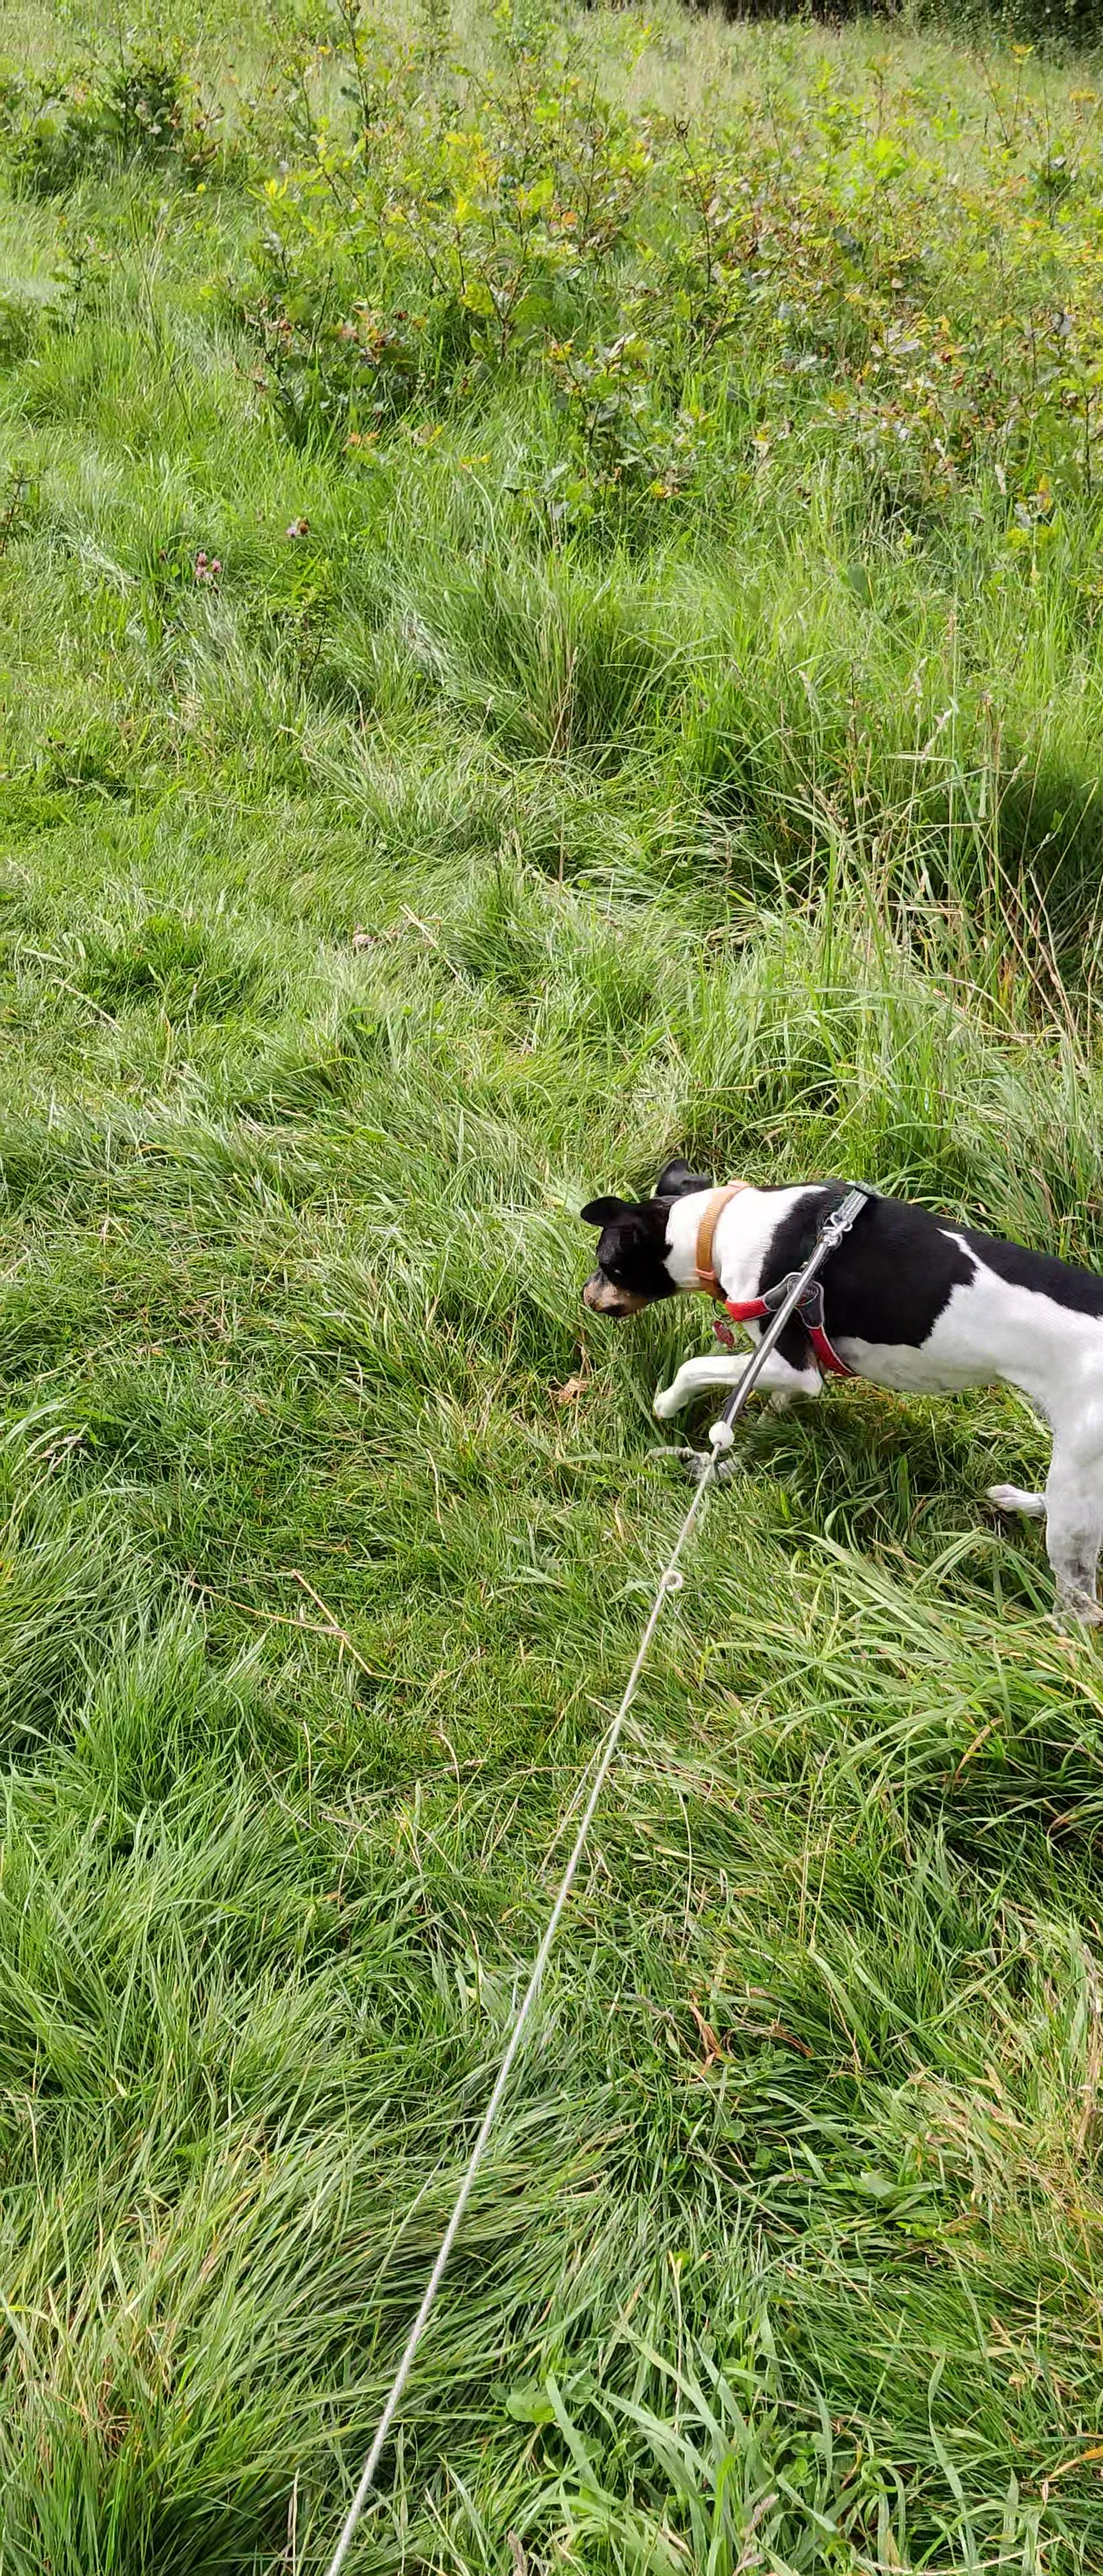Dog: (539, 1119, 1103, 1635)
